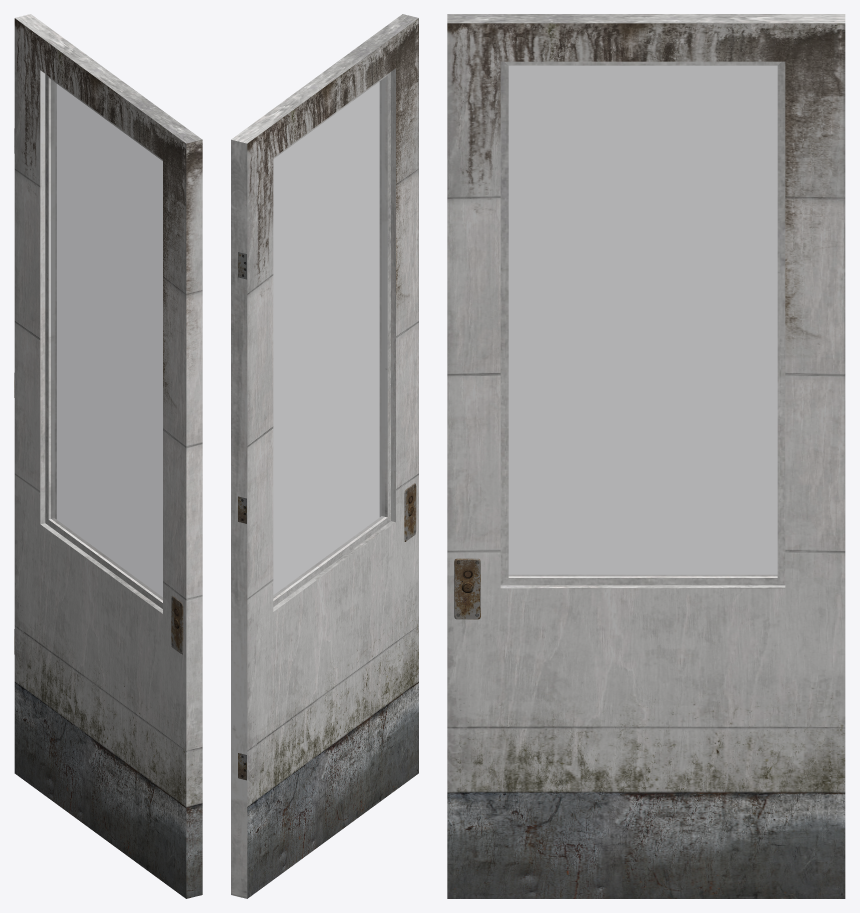
The model's file is Door_Hallway.fbx.
The picture shows the model from 3 angles, left to right: view 1: azimuth 30°, elevation 25°; view 2: azimuth 150°, elevation 25°; view 3: azimuth 270°, elevation 25°; orthographic projection. The views are drawn at different scales.
Visible parts, largest first — view 1: Door_Hallway; view 2: Door_Hallway; view 3: Door_Hallway.
Part boxes in pixels (x1,y1,x2,y2): Door_Hallway: [14, 14, 202, 898]; Door_Hallway: [231, 14, 418, 898]; Door_Hallway: [447, 14, 845, 898].
Bounding box in the file's own units: 0.0821 × 3.1 × 1.28.
